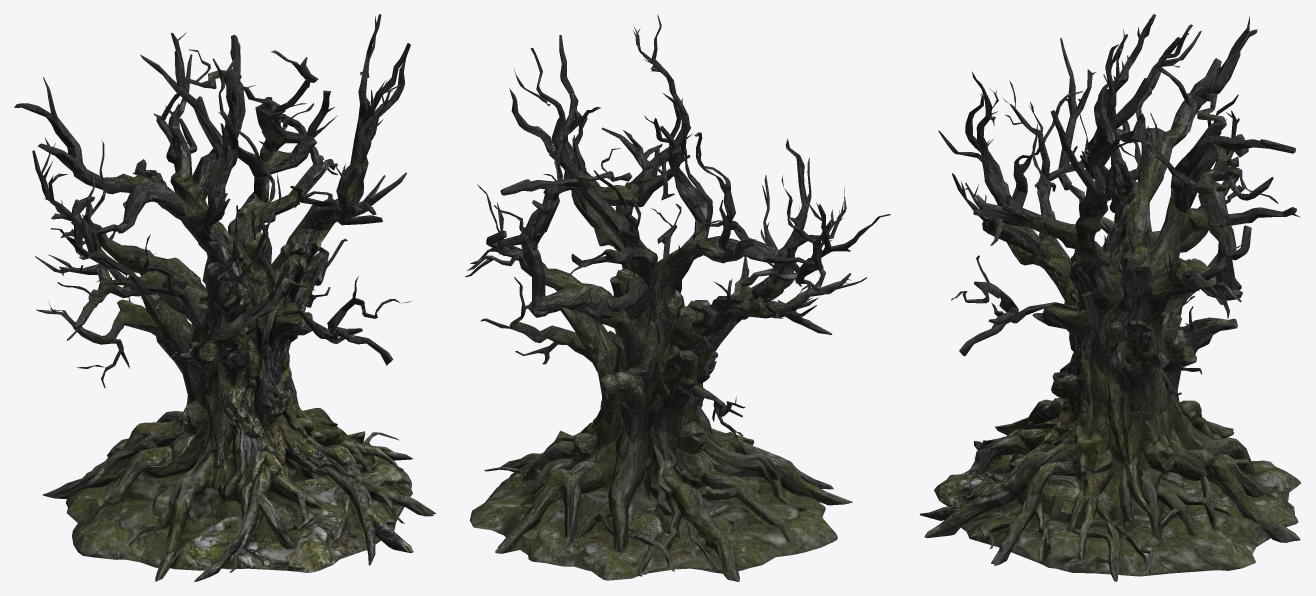
File: deadtree.glb
3 views of the same model, side by side, from view 1: azimuth 30°, elevation 25°; view 2: azimuth 150°, elevation 25°; view 3: azimuth 270°, elevation 25° (orthographic). The views are drawn at different scales.
Visible parts, largest first — view 1: Mesh_0; view 2: Mesh_0; view 3: Mesh_0.
Part boxes in pixels (x1=…): Mesh_0: x1=14, y1=14, x2=436, y2=581; Mesh_0: x1=465, y1=14, x2=890, y2=581; Mesh_0: x1=920, y1=14, x2=1300, y2=581.
Bounding box in the file's own units: 7.59 × 8.5 × 6.33.
1 material, 1 textured.
